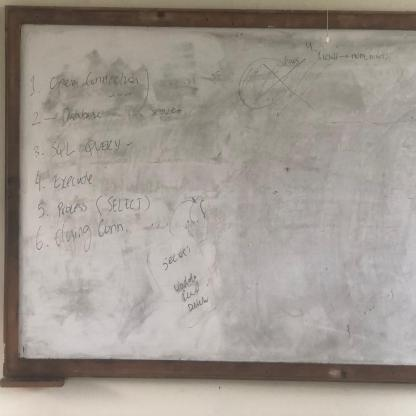Handwritten text: (41, 63, 148, 96), (41, 214, 129, 249), (47, 133, 135, 163), (44, 192, 158, 214), (55, 100, 109, 126), (45, 166, 97, 190)
Whiteboard: (12, 14, 416, 374)
